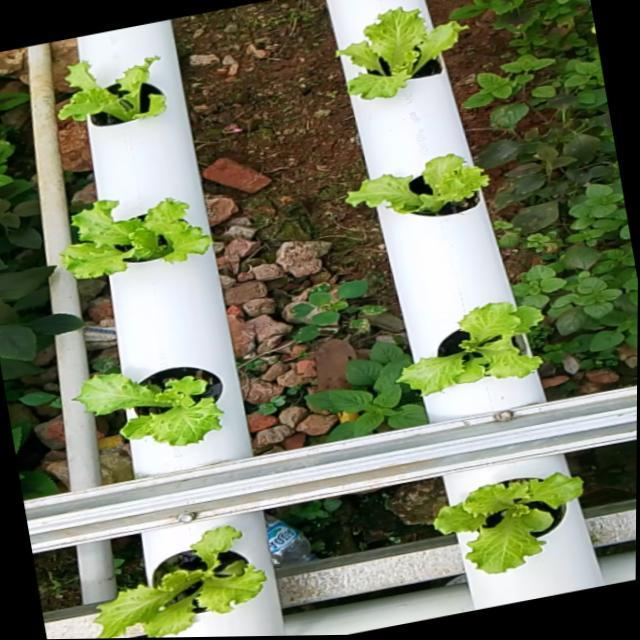Baby: (89, 523, 262, 639), (433, 456, 584, 574), (394, 302, 543, 397), (65, 200, 216, 281), (339, 10, 471, 102), (78, 368, 228, 448), (349, 156, 493, 218), (62, 60, 170, 129)
